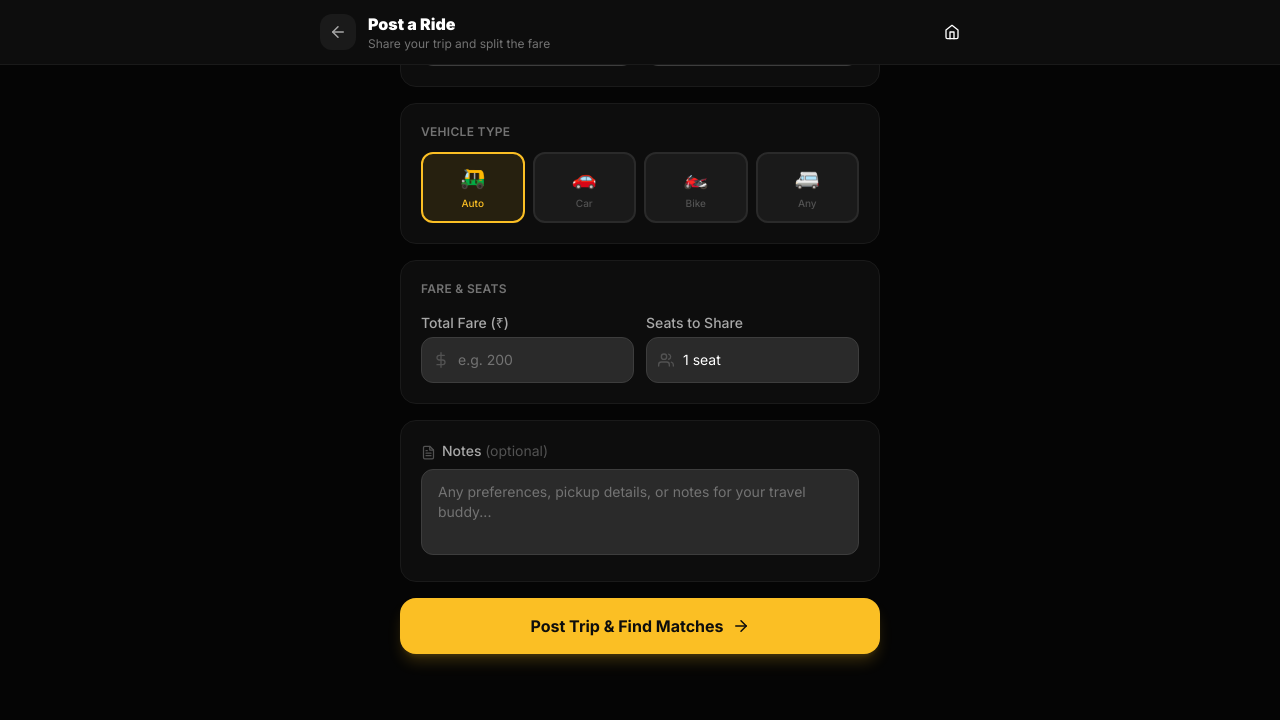
Test: NewTripPage › shows per-person fare when total fare is entered
(page scrolled)
// First change seats to 2 so we can test the per-person calculation
Select "2 seats" in the dropdown at x=752, y=360, box [646, 337, 859, 383]
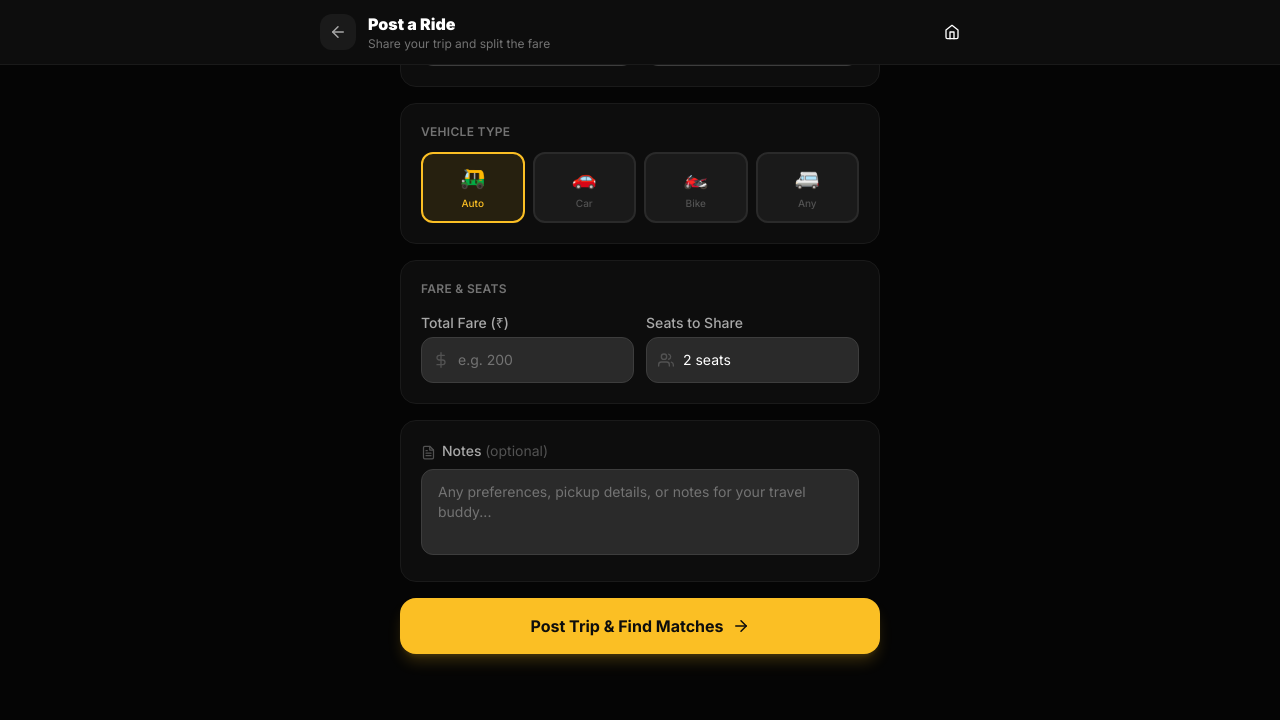
// Then enter the fare
Type "200" into the number field with placeholder "e.g. 200".
click(528, 360); type("200")  # box [421, 337, 634, 383]
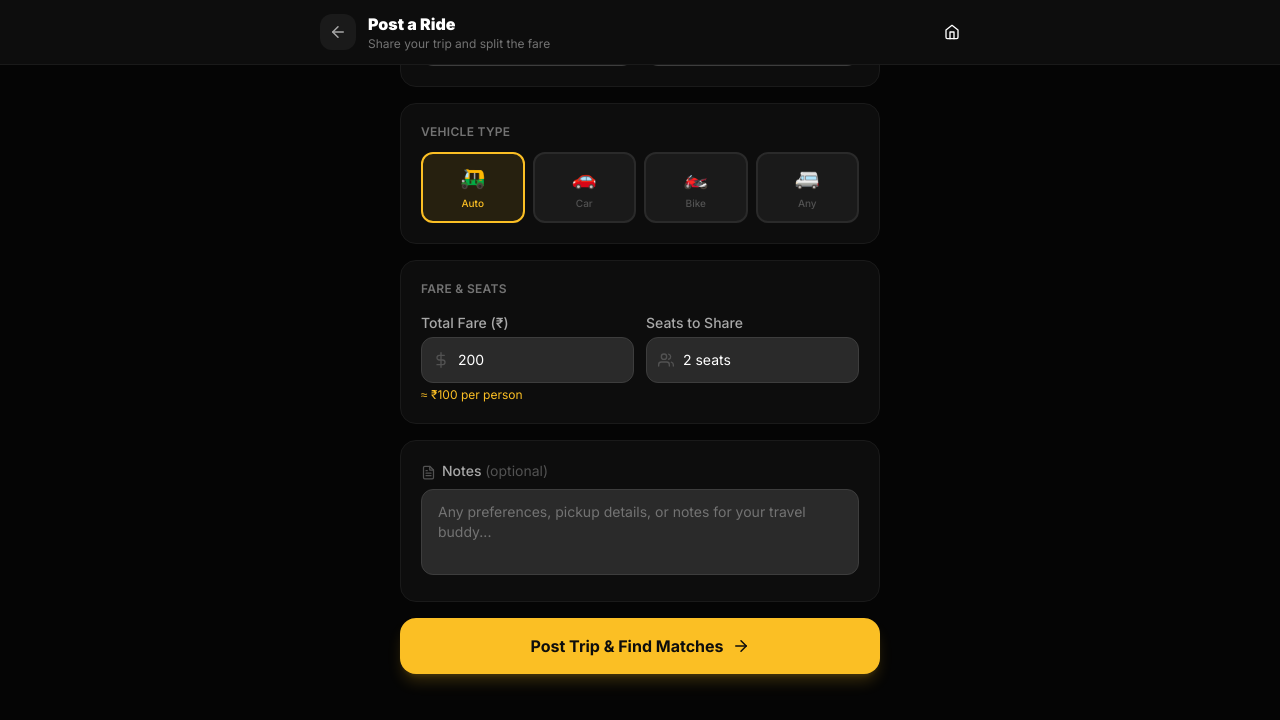
Now the text "≈ ₹100 per person" is shown, box [421, 387, 523, 402]
